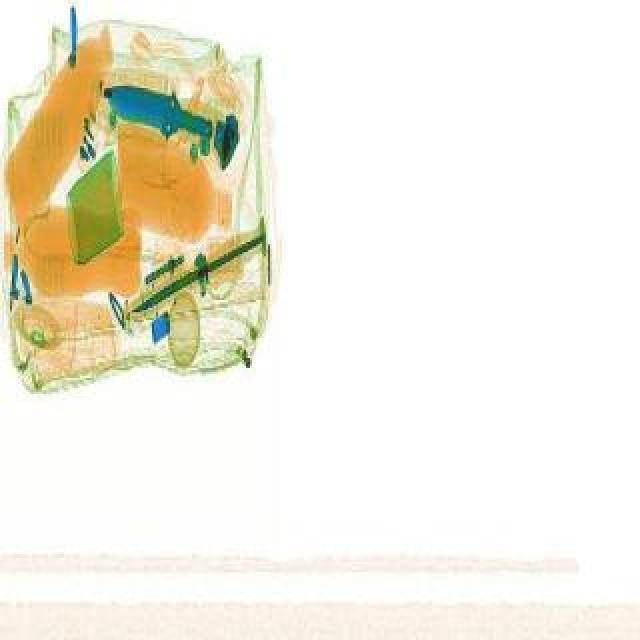knife: (118, 220, 278, 328), (92, 66, 224, 150)
